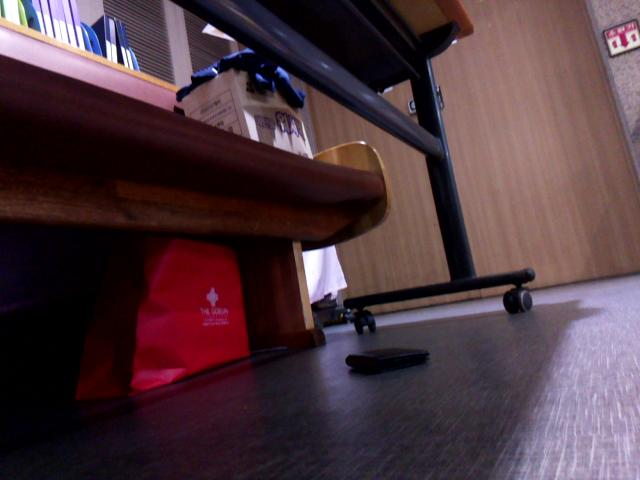wallet: (338, 340, 437, 385)
